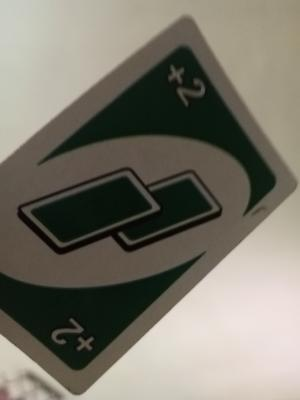green: (22, 151, 230, 278)
